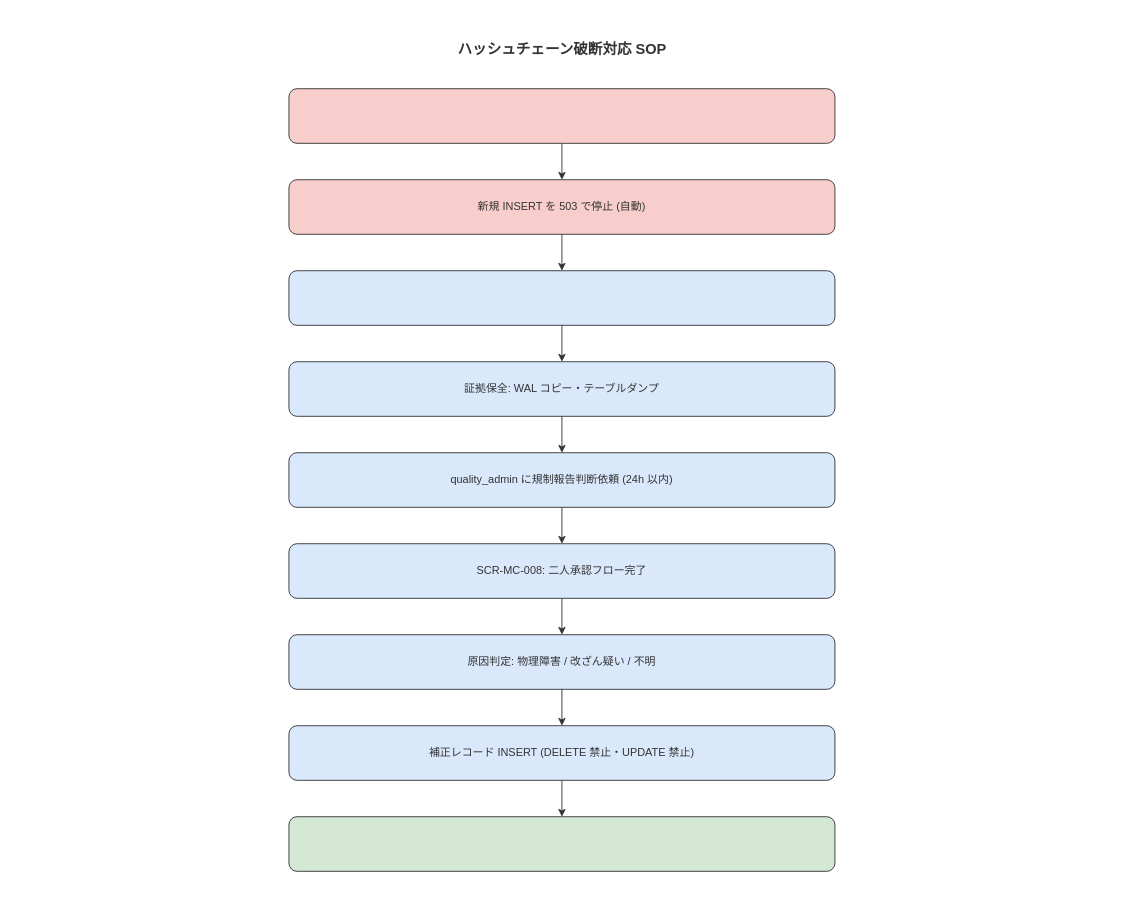
This 1123x905 diagram has some shape labels left out. The centre of each missing label's shape, as x and y in pixels:
"ERR-DB-003 / BAT-003 失敗検知" goes at pixel 561 115.
"ハッシュチェーン再検証 hash-chain-verify" goes at pixel 561 843.
"破断箇所の特定 SQL 実行" goes at pixel 561 297.
